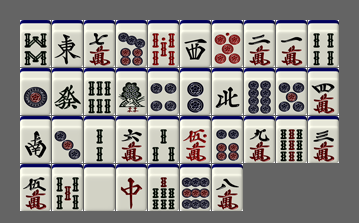0m: (180, 116, 211, 163)
0p: (212, 20, 243, 67)
0s: (148, 20, 179, 67)
1m: (276, 20, 307, 67)
1p: (20, 68, 51, 115)
1s: (116, 68, 147, 115)
1z: (52, 20, 83, 67)
2m: (244, 20, 275, 67)
2p: (180, 68, 211, 115)
2s: (84, 116, 115, 163)
2z: (20, 116, 51, 163)
3m: (308, 116, 339, 163)
3p: (52, 116, 83, 163)
3s: (148, 116, 179, 163)
3z: (180, 20, 211, 67)
4m: (308, 68, 339, 115)
4p: (148, 68, 179, 115)
4s: (308, 20, 339, 67)
4z: (212, 68, 243, 115)
5m: (20, 164, 51, 211)
5p: (276, 68, 307, 115)
5s: (52, 164, 83, 211)
5z: (84, 164, 115, 211)
6m: (116, 116, 147, 163)
6p: (212, 116, 243, 163)
6s: (84, 68, 115, 115)
6z: (52, 68, 83, 115)
7m: (84, 20, 115, 67)
7p: (116, 20, 147, 67)
7s: (148, 164, 179, 211)
7z: (116, 164, 147, 211)
8m: (212, 164, 243, 211)
8p: (244, 68, 275, 115)
8s: (20, 20, 51, 67)
9m: (244, 116, 275, 163)
9p: (180, 164, 211, 211)
9s: (276, 116, 307, 163)
